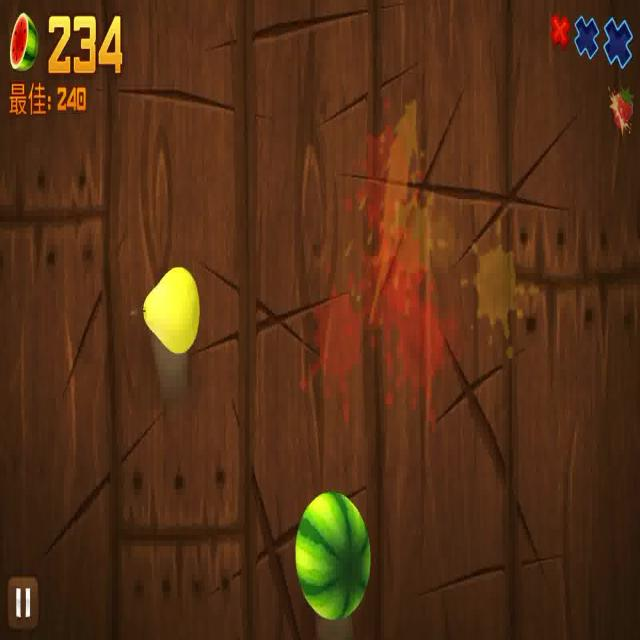fruit: (295, 487, 370, 617), (133, 266, 200, 354)
